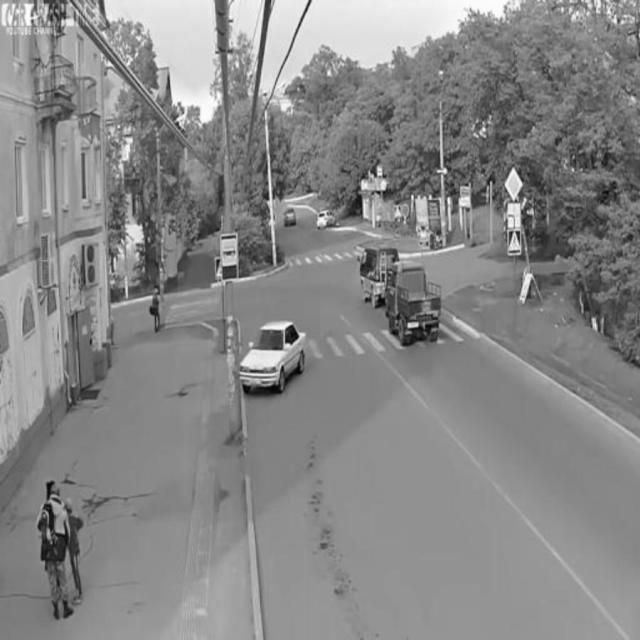person: (40, 471, 77, 625), (149, 281, 165, 339)
vehicle: (384, 256, 445, 350), (241, 316, 305, 392), (357, 242, 395, 310), (316, 206, 338, 233), (282, 204, 298, 228)
